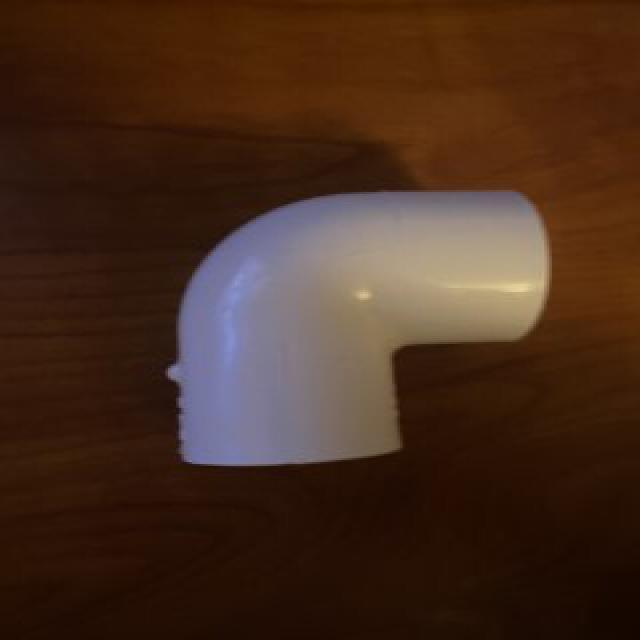L Joint: (166, 189, 552, 469)
